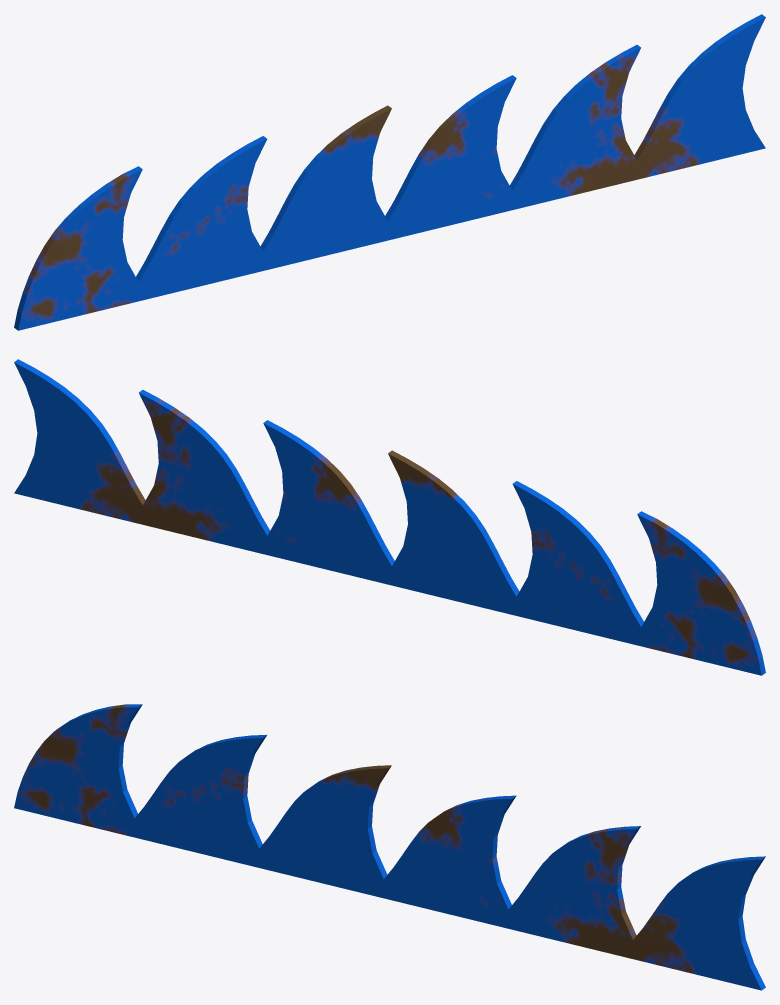
Rendered from ola 6.fbx.
The picture shows the model from 3 angles, top to bottom: view 1: azimuth 30°, elevation 25°; view 2: azimuth 150°, elevation 25°; view 3: azimuth 330°, elevation 25°; orthographic projection.
Parts seen in each view (by area): view 1: ola 6; view 2: ola 6; view 3: ola 6.
Boxes of the visible parts, bbox=[...] form: ola 6: bbox=[14, 14, 765, 330]; ola 6: bbox=[14, 359, 765, 675]; ola 6: bbox=[14, 704, 765, 990].
Size of the model in its own units: 716 by 120 by 7.04.
